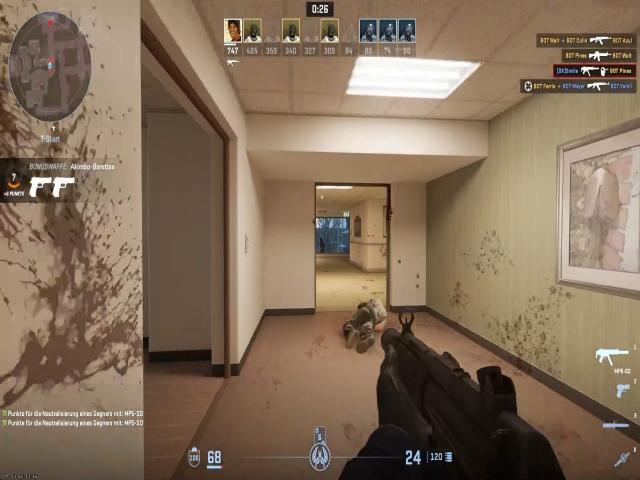Dead: (328, 281, 397, 352)
